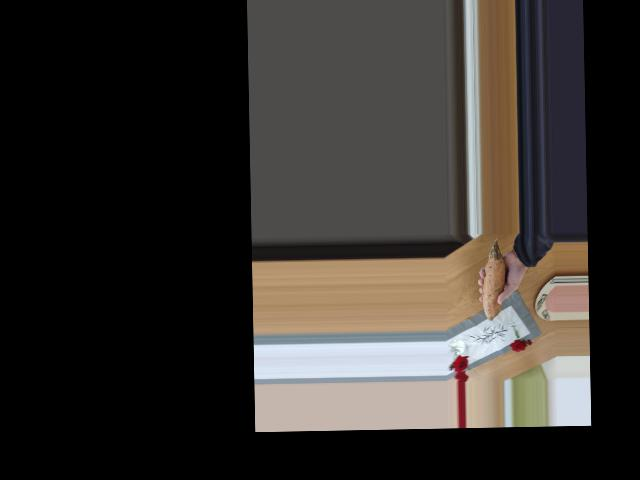sweet_potato: (478, 245, 513, 322)
